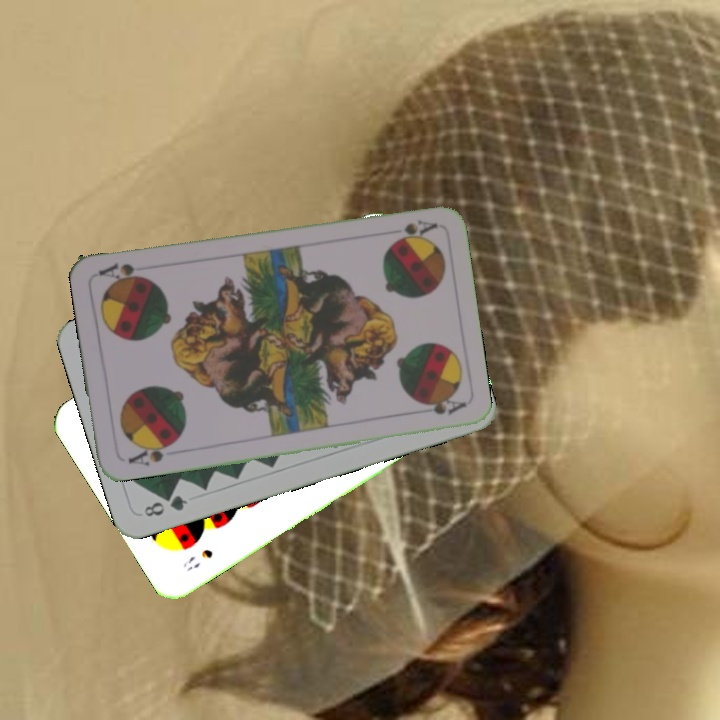G8: (139, 491, 191, 520)
S8: (179, 545, 216, 573)
SA: (386, 215, 440, 247), (124, 437, 177, 469)
